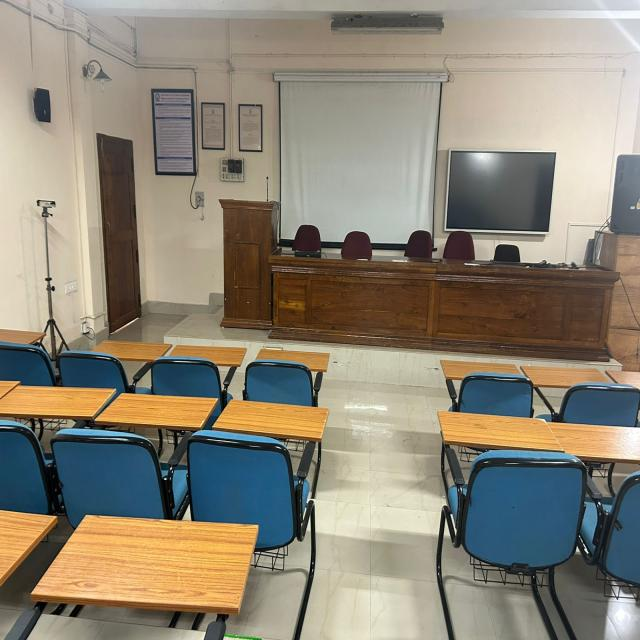Table ahead at: (271, 264, 616, 351), (38, 505, 267, 619), (220, 196, 270, 324), (100, 390, 222, 429)
barrier ahead at: (28, 196, 69, 341)
chair ahead at: (436, 427, 640, 594), (286, 219, 324, 265), (336, 228, 374, 264), (406, 230, 442, 267)
